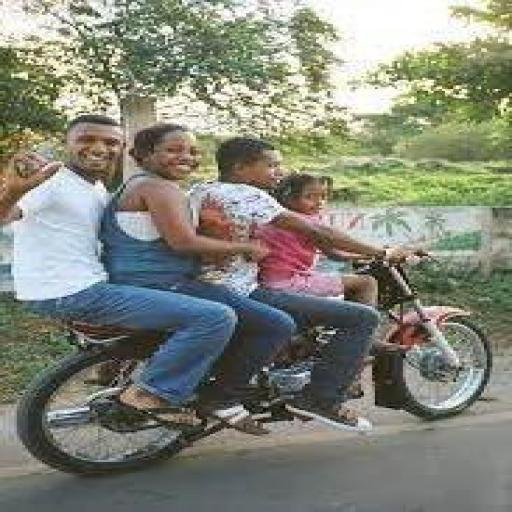no helmet: (228, 125, 302, 247)
triple riding: (0, 70, 512, 488)
